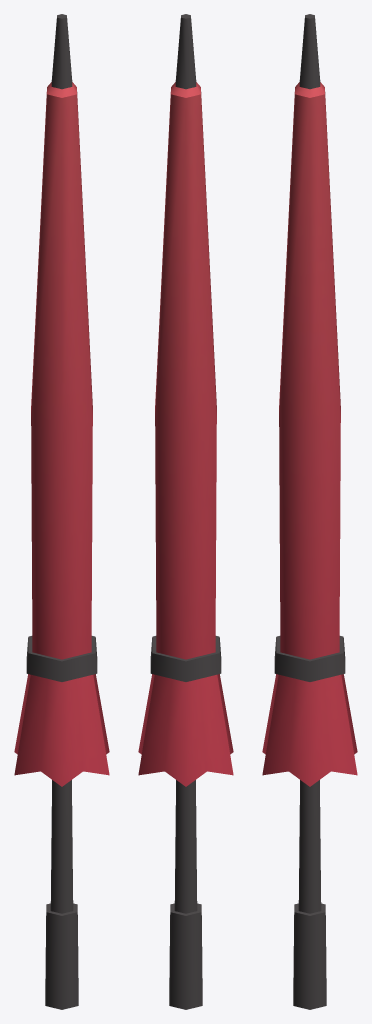
File: SM_Umbrella_1_03.fbx
The picture shows the model from 3 angles, left to right: view 1: azimuth 30°, elevation 25°; view 2: azimuth 210°, elevation 25°; view 3: azimuth 270°, elevation 25°; orthographic projection.
Parts seen in each view (by area): view 1: SM_Umbrella_1_03; view 2: SM_Umbrella_1_03; view 3: SM_Umbrella_1_03.
Boxes of the visible parts, <box> form: SM_Umbrella_1_03: <box>14,14,109,1009</box>; SM_Umbrella_1_03: <box>138,14,233,1009</box>; SM_Umbrella_1_03: <box>262,14,357,1009</box>.
Size of the model in its own units: 10.04 by 99.23 by 8.7.
